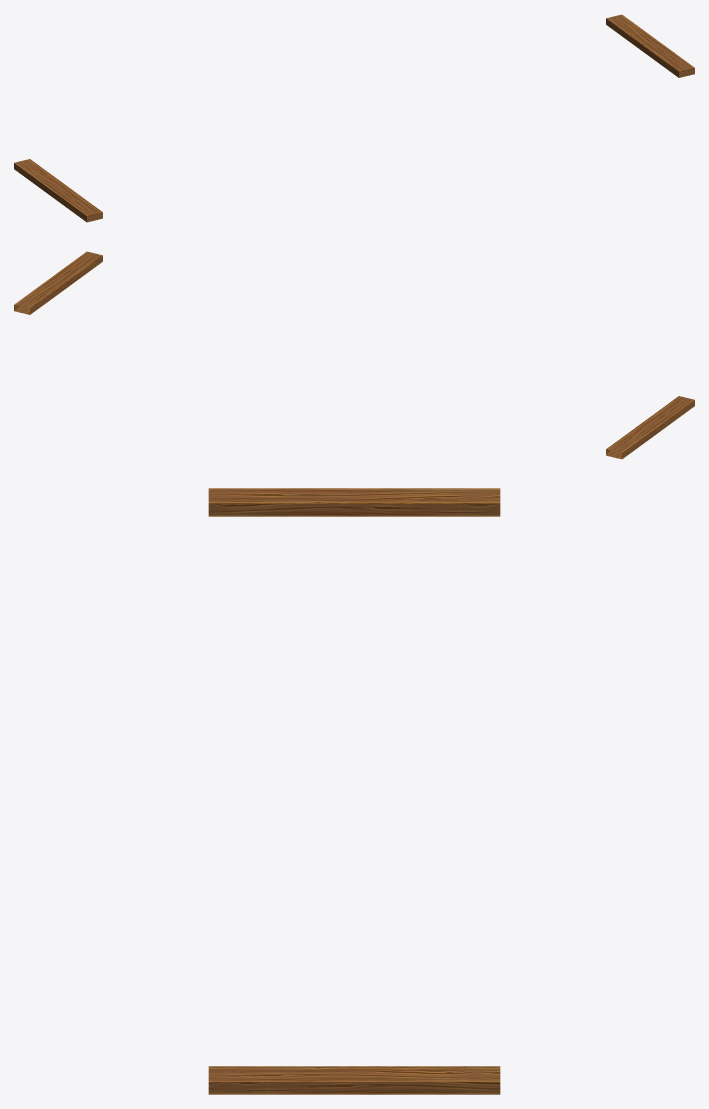
The picture shows the model from 3 angles, top to bottom: view 1: azimuth 30°, elevation 25°; view 2: azimuth 150°, elevation 25°; view 3: azimuth 270°, elevation 25°; orthographic projection. The views are drawn at different scales.
Visible parts, largest first — view 1: Cube.762; view 2: Cube.762; view 3: Cube.762.
Part boxes in pixels (left/top/right/bottom): Cube.762: left=14, top=14, right=694, bottom=222; Cube.762: left=14, top=251, right=694, bottom=459; Cube.762: left=208, top=488, right=500, bottom=1094.
Bounding box in the file's own units: 900 × 8.98 × 187.
1 material, 1 textured.
